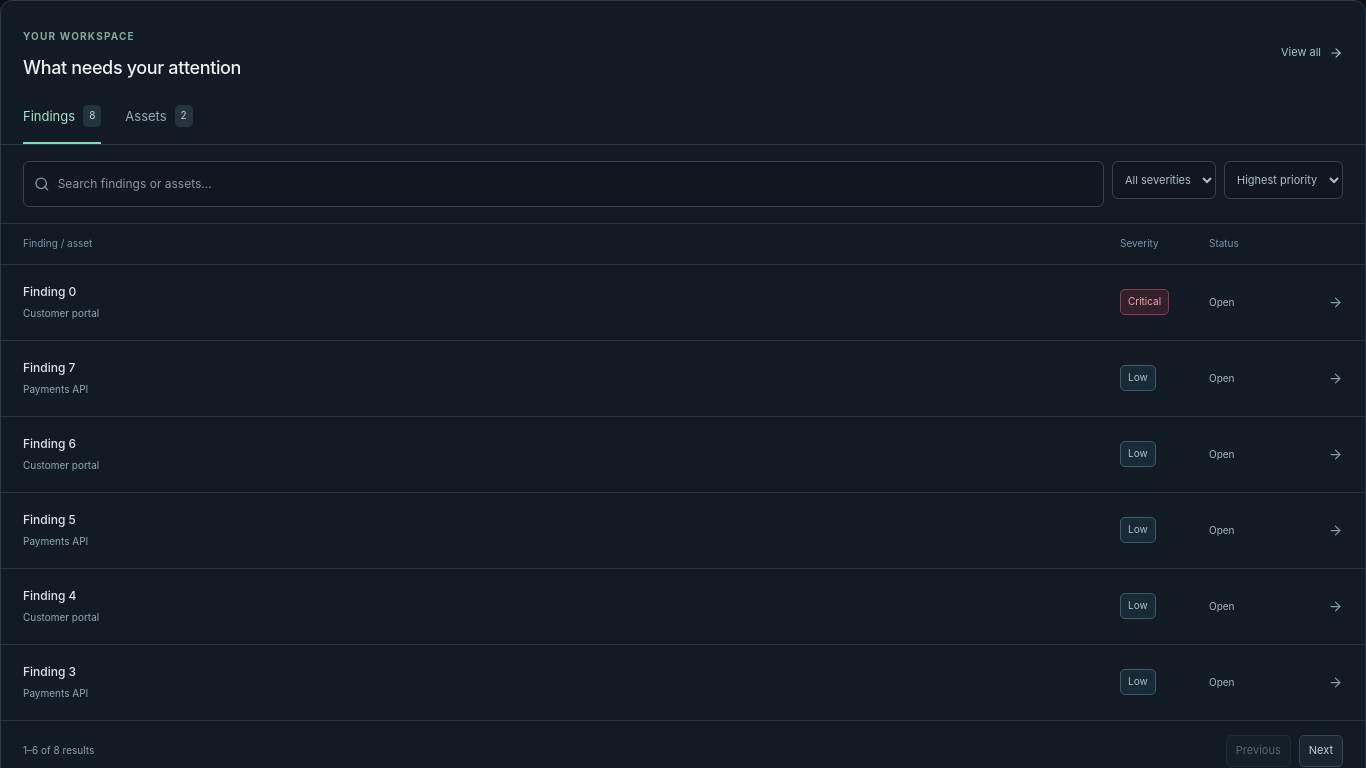
Scenario: DashboardWorkbench › paginates, sorts by recency, and resets pagination when filters change
Click the button "Next": coordinates (1321, 751) x1=1299 y1=735 x2=1343 y2=767
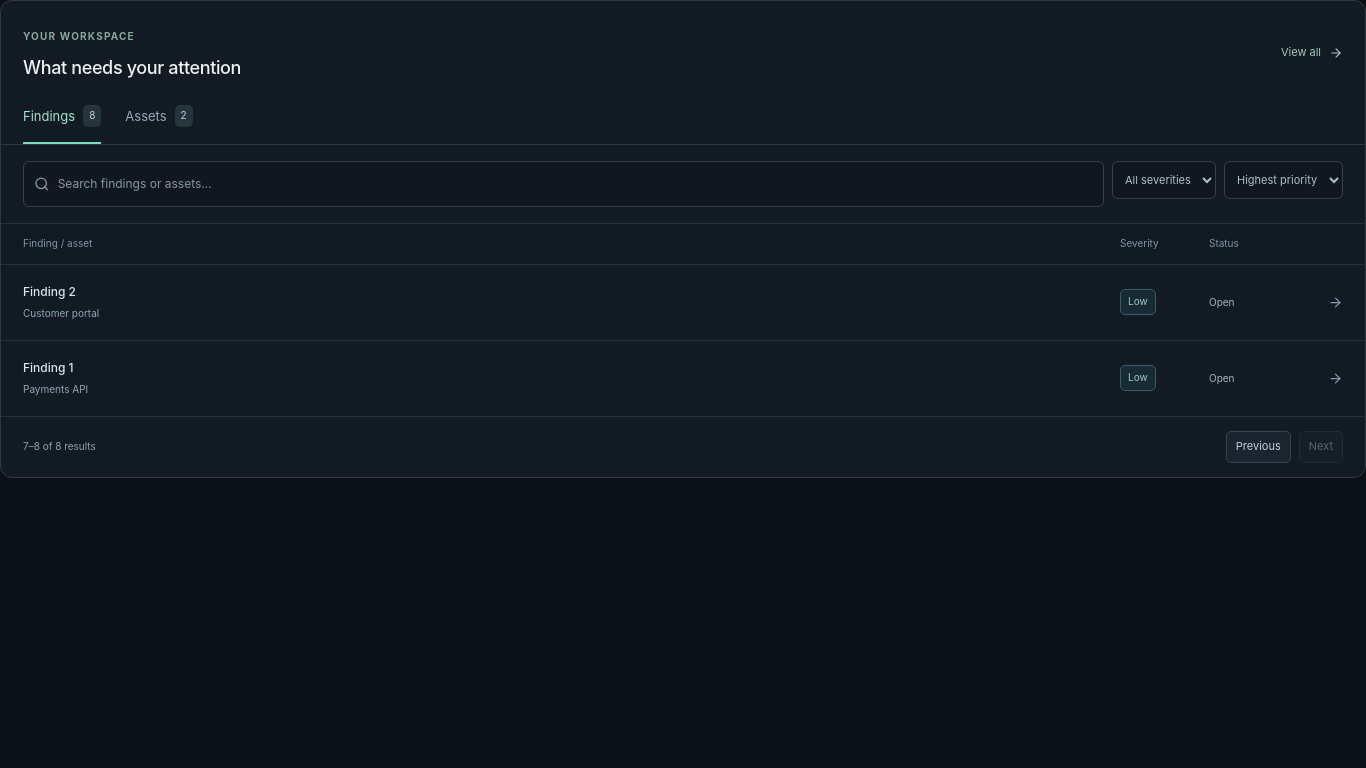
Result: the message reads "7–8 of 8 results" at x1=23 y1=440 x2=96 y2=452
Select "Most recent" in the dropdown named "Sort findings": coordinates (1284, 180) x1=1224 y1=161 x2=1343 y2=199
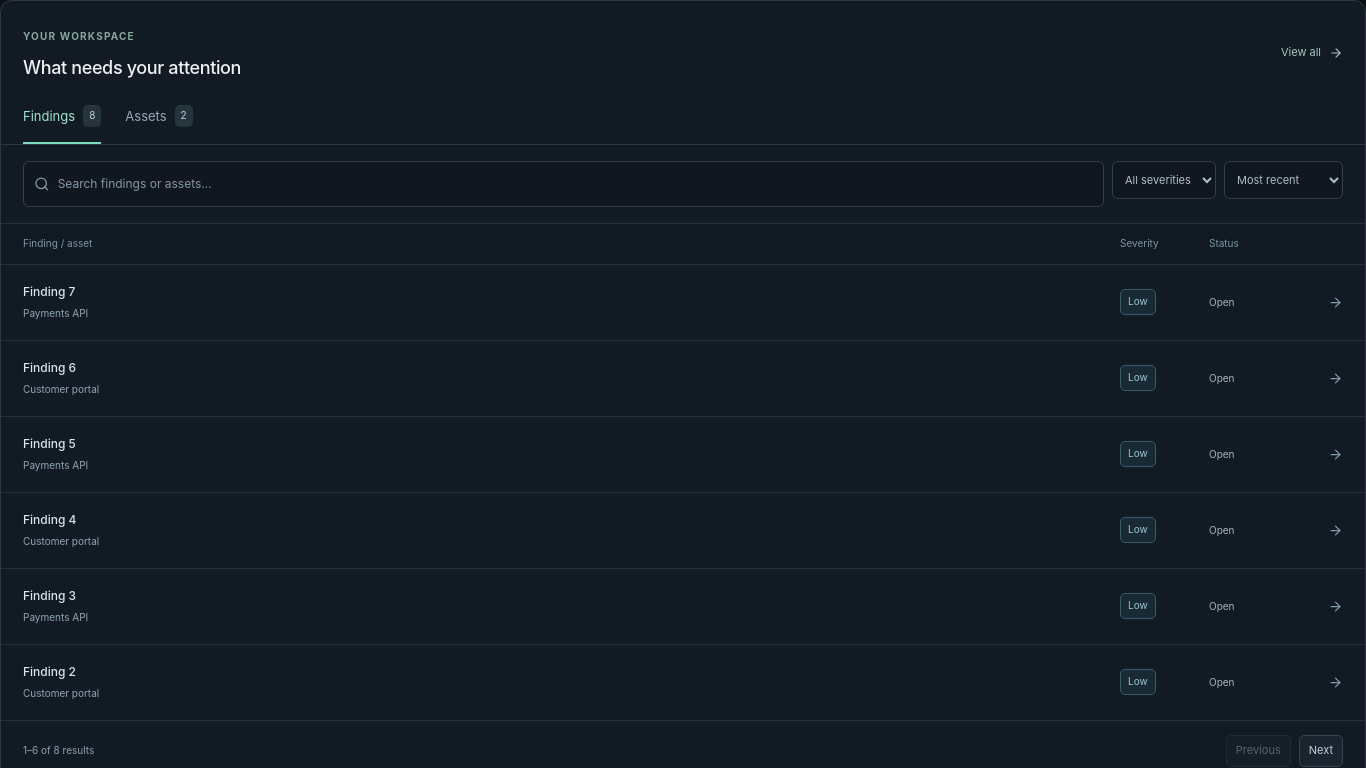
Result: the button "Previous" is disabled at x1=1226 y1=735 x2=1291 y2=767
Result: the link "Finding 7 Payments API low open" is shown at x1=1 y1=265 x2=1365 y2=341
